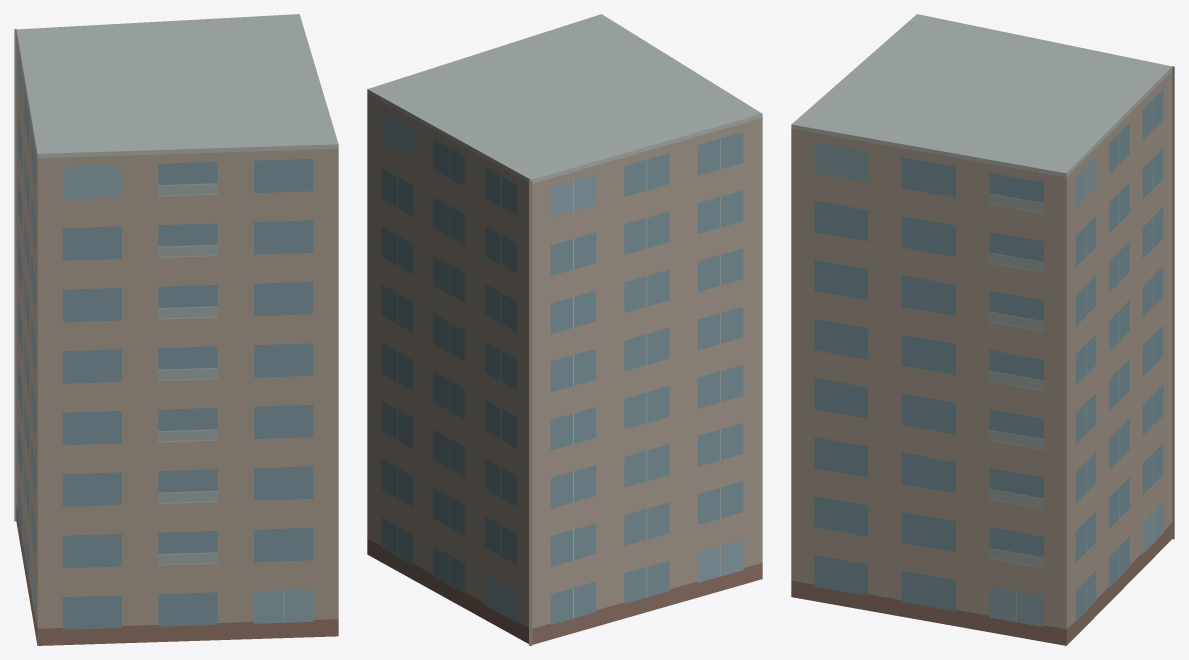
File: survey-upis-32478230.glb
3 renders of one model, left to right at view 1: azimuth 30°, elevation 25°; view 2: azimuth 150°, elevation 25°; view 3: azimuth 270°, elevation 25°, orthographic. The views are drawn at different scales.
Visible parts, largest first — view 1: survey-upis-32478230.tmp; view 2: survey-upis-32478230.tmp; view 3: survey-upis-32478230.tmp.
Part boxes in pixels (x1,y1,x2,y2): survey-upis-32478230.tmp: (14,14,338,645); survey-upis-32478230.tmp: (367,14,762,645); survey-upis-32478230.tmp: (791,14,1174,645).
Bounding box in the file's own units: 19.46 × 26.9 × 19.79.
